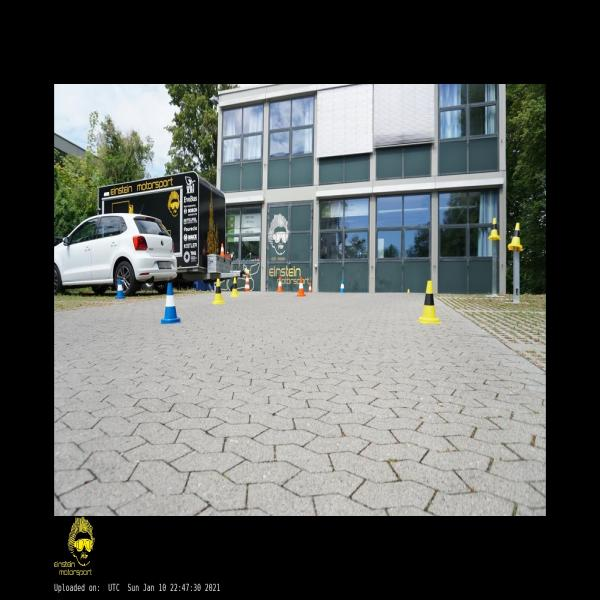blue_cone: (161, 284, 180, 324), (116, 279, 125, 298), (340, 279, 345, 293)
large_orange_cone: (245, 275, 250, 291)
orange_cone: (296, 278, 306, 296), (277, 277, 283, 292), (220, 244, 225, 256), (309, 282, 312, 292)
yellow_cone: (419, 281, 440, 323), (508, 223, 522, 250), (212, 279, 226, 304), (488, 218, 501, 240), (230, 278, 240, 296)
